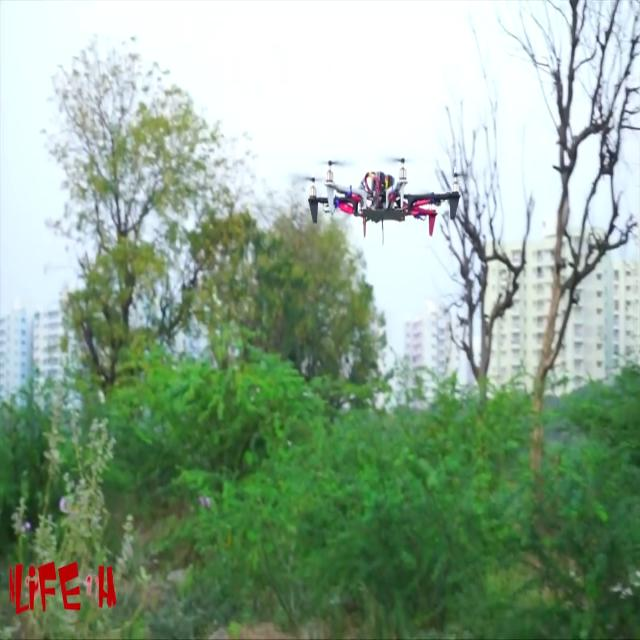drone: (289, 150, 470, 267)
